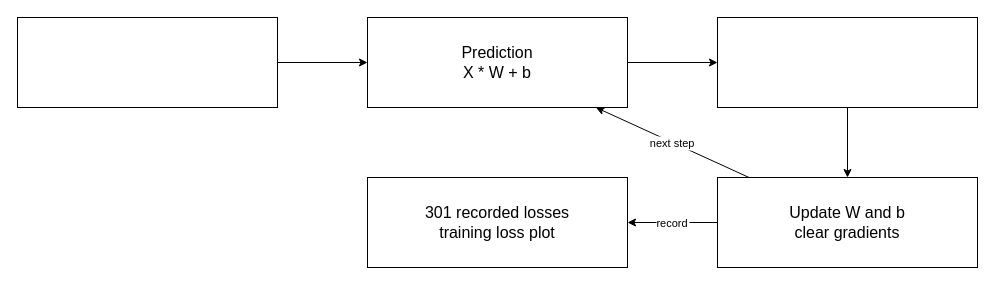
Image size: 995x285. Some labels were removed from this diagram. Each missing label, with the centre of its shape:
"Mean squared error backward()" belongs at (x=847, y=62).
"X and y 120 training rows" belongs at (x=147, y=62).
